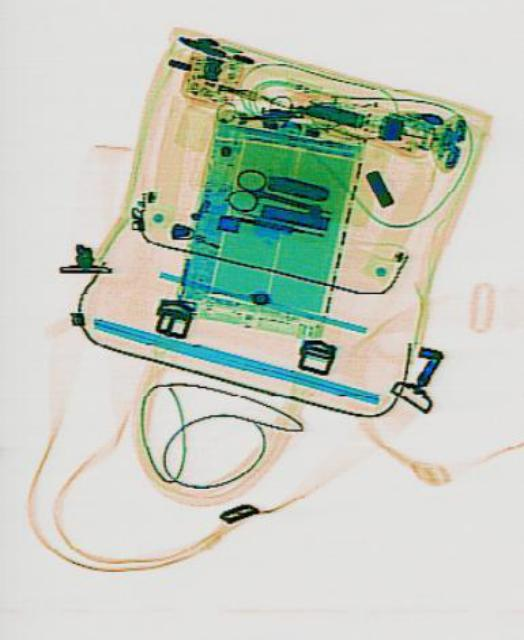Scissors: (222, 162, 330, 232)
